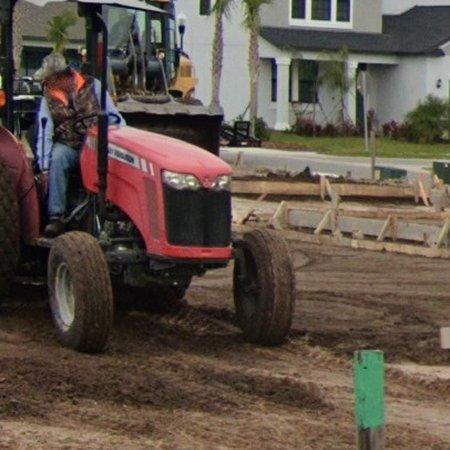tractors: (0, 0, 295, 352)
